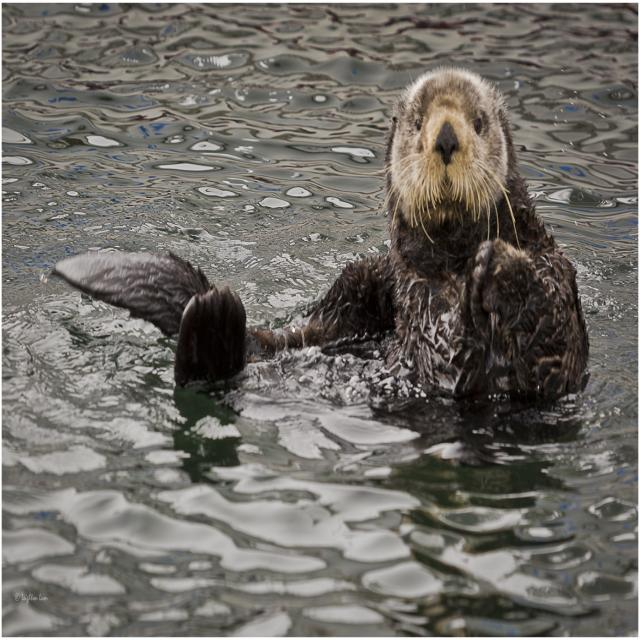otter: (387, 70, 586, 405)
